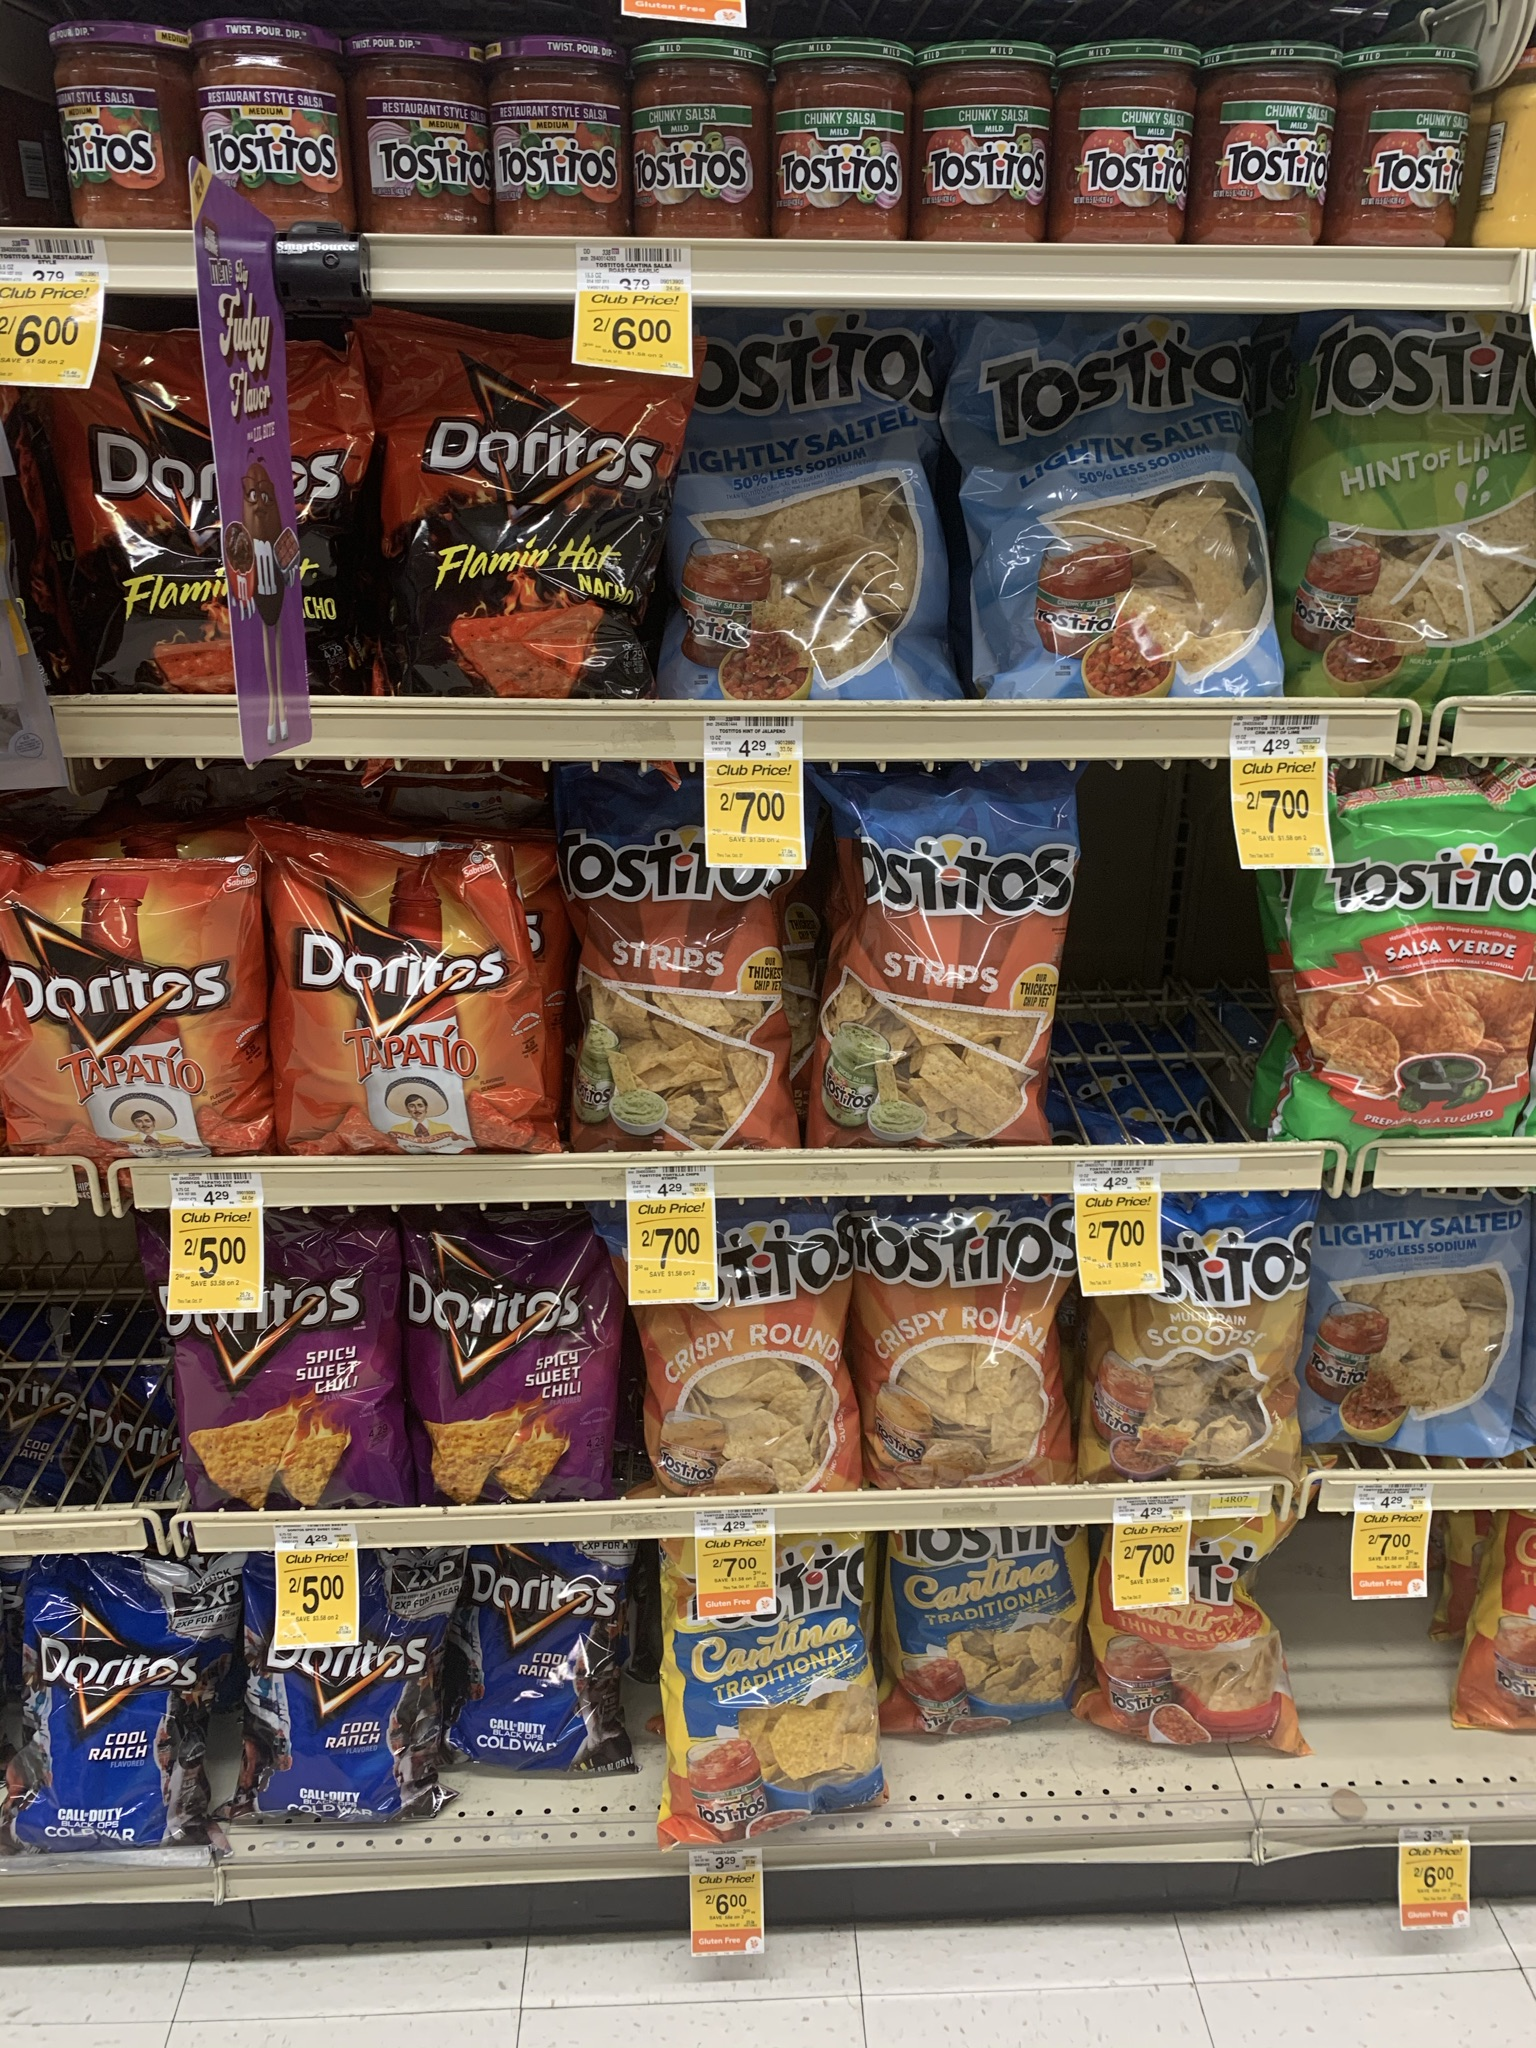chip: (931, 319, 1260, 705), (671, 300, 936, 705), (378, 305, 637, 701), (824, 789, 1086, 1150), (1291, 318, 1536, 700), (290, 847, 566, 1172), (3, 860, 282, 1161), (1292, 784, 1536, 1127), (584, 813, 821, 1161), (23, 1585, 271, 1859), (194, 1219, 397, 1519), (397, 1222, 615, 1487), (653, 1219, 854, 1506), (253, 1579, 481, 1827), (852, 1201, 1060, 1467), (1325, 1187, 1534, 1443), (1108, 1198, 1297, 1479), (466, 1542, 636, 1779), (1100, 1472, 1104, 1474)
